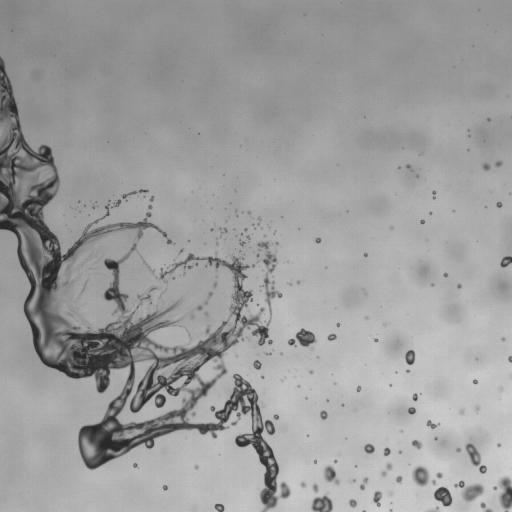droplet: (454, 480, 484, 501), (288, 328, 316, 347), (412, 466, 435, 486), (433, 486, 452, 506), (311, 494, 332, 511), (324, 465, 339, 484), (405, 350, 415, 364), (373, 491, 382, 506), (500, 256, 511, 267), (411, 440, 422, 449), (427, 420, 439, 428), (364, 444, 374, 453), (214, 503, 224, 511), (253, 360, 261, 369), (327, 333, 336, 340), (320, 410, 327, 419), (482, 163, 490, 170), (349, 499, 356, 507), (384, 447, 390, 456), (312, 483, 318, 492), (495, 160, 502, 167), (408, 407, 415, 414), (412, 393, 418, 401), (396, 475, 402, 483), (436, 472, 442, 478), (220, 227, 227, 232), (474, 405, 479, 412), (496, 202, 502, 207), (315, 237, 321, 242), (356, 385, 361, 391), (459, 408, 464, 414), (273, 414, 278, 419), (300, 482, 305, 487), (406, 164, 410, 169), (473, 379, 477, 384), (163, 485, 167, 490), (265, 352, 271, 355), (508, 356, 511, 362), (179, 249, 183, 253), (457, 284, 461, 288), (204, 311, 208, 315), (501, 337, 505, 341), (309, 370, 313, 374), (456, 448, 460, 452), (133, 463, 137, 467), (194, 465, 198, 469), (150, 196, 153, 201), (258, 217, 261, 222), (92, 205, 96, 208), (148, 205, 151, 209), (420, 220, 424, 223), (443, 273, 447, 276), (497, 443, 500, 447), (350, 479, 354, 482), (275, 242, 278, 245), (364, 253, 367, 256), (336, 323, 339, 326), (374, 338, 377, 341), (389, 492, 392, 495), (248, 211, 250, 214), (244, 229, 247, 231), (256, 254, 259, 256), (431, 283, 433, 286), (406, 370, 409, 372), (434, 437, 437, 439), (399, 450, 401, 453), (334, 460, 337, 462), (389, 509, 392, 511), (488, 118, 490, 120), (390, 227, 392, 229), (252, 265, 254, 267), (297, 281, 299, 283), (365, 317, 367, 319), (261, 376, 263, 378)
ligament: (0, 57, 290, 507), (258, 241, 282, 313), (465, 443, 486, 473), (493, 476, 511, 511), (122, 189, 148, 199), (381, 462, 392, 476), (239, 235, 250, 246), (480, 502, 493, 511), (360, 477, 368, 490), (112, 199, 121, 207), (426, 506, 440, 511), (212, 275, 217, 288), (158, 290, 165, 298), (80, 284, 86, 293), (432, 191, 436, 198)
